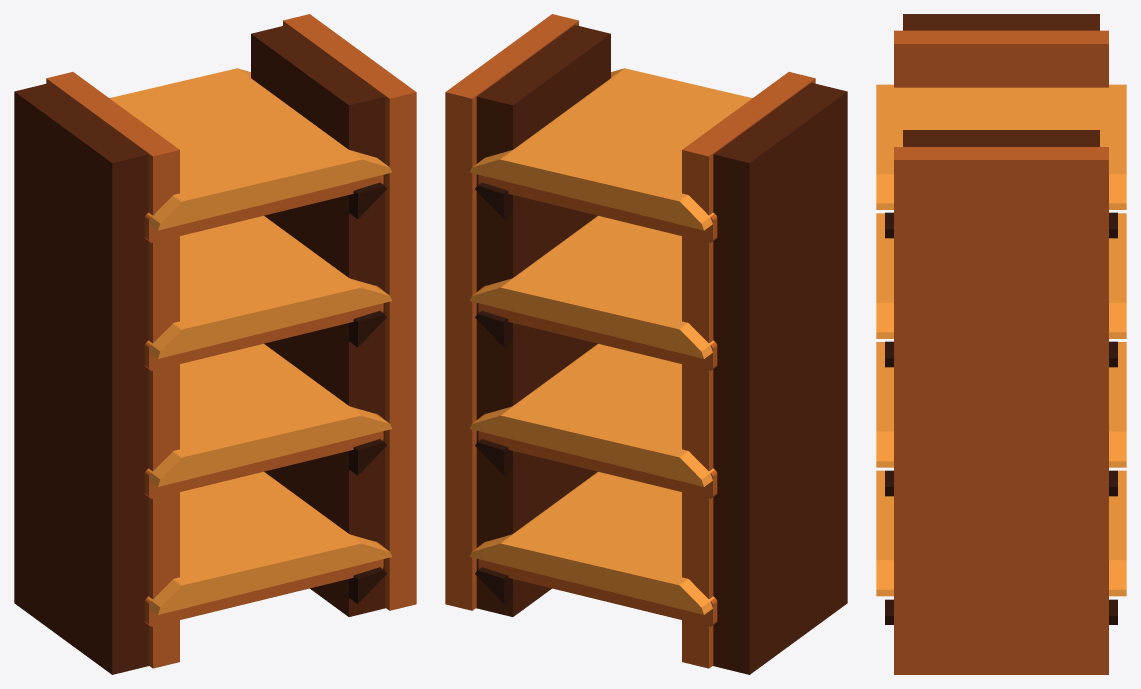
The picture shows the model from 3 angles, left to right: view 1: azimuth 30°, elevation 25°; view 2: azimuth 150°, elevation 25°; view 3: azimuth 270°, elevation 25°; orthographic projection.
Visible parts, largest first — view 1: U+1FA9C_layer01_obj00, U+1FA9C_layer01_obj01, U+1FA9C_layer04_obj00, U+1FA9C_layer02_obj02, U+1FA9C_layer04_obj01, U+1FA9C_layer04_obj03, U+1FA9C_layer04_obj02, U+1FA9C_layer02_obj05, U+1FA9C_layer02_obj01, U+1FA9C_layer02_obj04, U+1FA9C_layer02_obj00, U+1FA9C_layer02_obj03 (+4 smaller); view 2: U+1FA9C_layer01_obj00, U+1FA9C_layer01_obj01, U+1FA9C_layer04_obj00, U+1FA9C_layer02_obj02, U+1FA9C_layer04_obj01, U+1FA9C_layer04_obj03, U+1FA9C_layer04_obj02, U+1FA9C_layer02_obj05, U+1FA9C_layer02_obj01, U+1FA9C_layer02_obj00, U+1FA9C_layer02_obj04, U+1FA9C_layer02_obj03 (+4 smaller); view 3: U+1FA9C_layer02_obj02, U+1FA9C_layer04_obj00, U+1FA9C_layer02_obj05, U+1FA9C_layer04_obj02, U+1FA9C_layer04_obj01, U+1FA9C_layer04_obj03, U+1FA9C_layer01_obj00, U+1FA9C_layer01_obj01, U+1FA9C_layer03_obj01, U+1FA9C_layer03_obj02, U+1FA9C_layer03_obj03, U+1FA9C_layer03_obj00.
Part boxes in pixels (x1,y1,x2,y2): U+1FA9C_layer01_obj00: (14,82,148,674); U+1FA9C_layer01_obj01: (251,25,385,616); U+1FA9C_layer04_obj00: (109,68,392,230); U+1FA9C_layer02_obj02: (283,14,416,610); U+1FA9C_layer04_obj01: (147,215,392,358); U+1FA9C_layer04_obj03: (147,343,392,486); U+1FA9C_layer04_obj02: (147,471,392,614); U+1FA9C_layer02_obj05: (46,72,179,668); U+1FA9C_layer02_obj01: (144,175,383,242); U+1FA9C_layer02_obj04: (144,541,383,626); U+1FA9C_layer02_obj00: (144,285,383,370); U+1FA9C_layer02_obj03: (144,413,383,498); U+1FA9C_layer01_obj00: (713,82,847,674); U+1FA9C_layer01_obj01: (476,25,610,616); U+1FA9C_layer04_obj00: (469,68,752,230); U+1FA9C_layer02_obj02: (445,14,578,610); U+1FA9C_layer04_obj01: (469,215,714,358); U+1FA9C_layer04_obj03: (469,343,714,486); U+1FA9C_layer04_obj02: (469,471,714,614); U+1FA9C_layer02_obj05: (682,72,815,668); U+1FA9C_layer02_obj01: (478,175,717,242); U+1FA9C_layer02_obj00: (478,285,717,370); U+1FA9C_layer02_obj04: (478,541,717,626); U+1FA9C_layer02_obj03: (478,413,717,498); U+1FA9C_layer02_obj02: (894,147,1108,674); U+1FA9C_layer04_obj00: (876,84,1126,209); U+1FA9C_layer02_obj05: (894,30,1108,87); U+1FA9C_layer04_obj02: (876,470,1126,596); U+1FA9C_layer04_obj01: (876,213,1126,338); U+1FA9C_layer04_obj03: (876,342,1126,467); U+1FA9C_layer01_obj00: (903,14,1099,30); U+1FA9C_layer01_obj01: (903,130,1099,146); U+1FA9C_layer03_obj01: (885,341,1117,367); U+1FA9C_layer03_obj02: (885,470,1117,496); U+1FA9C_layer03_obj03: (885,212,1117,238); U+1FA9C_layer03_obj00: (885,599,1117,624).
Size of the model in its own units: 0.1945 by 0.3178 by 0.14.
